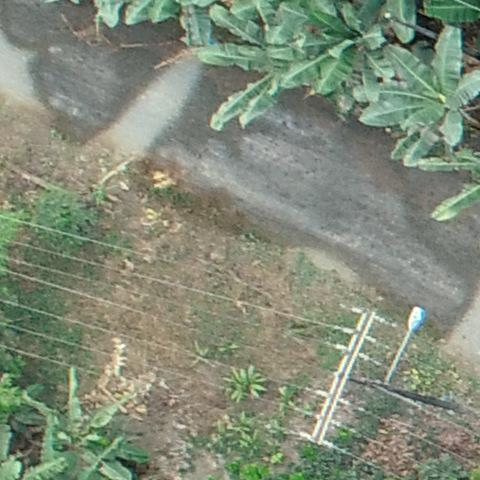Banana-plant: (210, 5, 311, 122), (370, 42, 480, 149), (297, 0, 399, 93)
